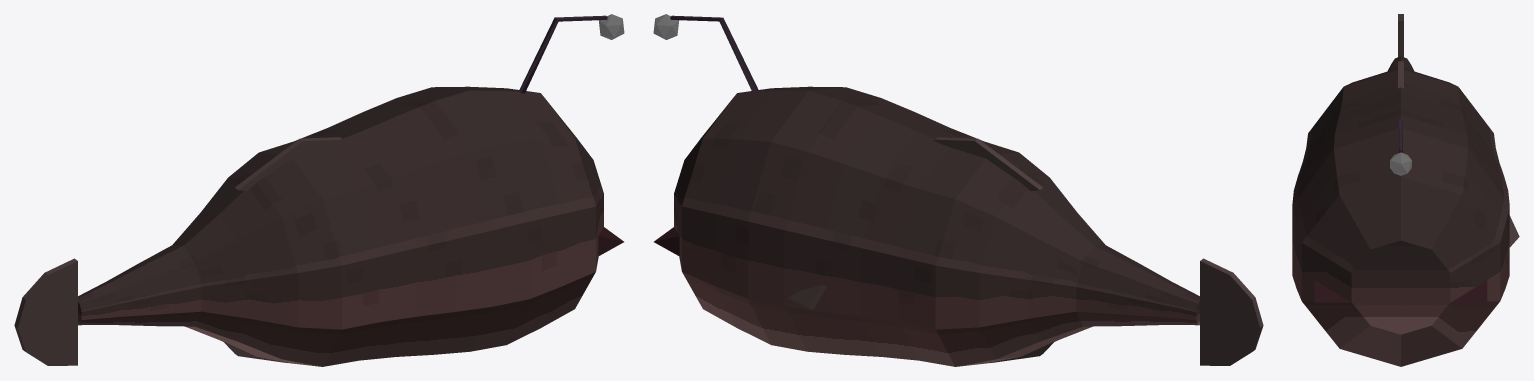
Rendered from fangtooth.glb.
The picture shows the model from 3 angles, left to right: view 1: azimuth 30°, elevation 25°; view 2: azimuth 150°, elevation 25°; view 3: azimuth 270°, elevation 25°; orthographic projection. The views are drawn at different scales.
Visible parts, largest first — view 1: fish_fangtooth; view 2: fish_fangtooth; view 3: fish_fangtooth.
Boxes of the visible parts, box(x1,y1,x2,y2) form: fish_fangtooth: box(14, 14, 624, 366); fish_fangtooth: box(653, 14, 1263, 366); fish_fangtooth: box(1292, 14, 1519, 366).
Size of the model in its own units: 1.21 by 0.5778 by 0.4375.
7 materials, 1 textured.
